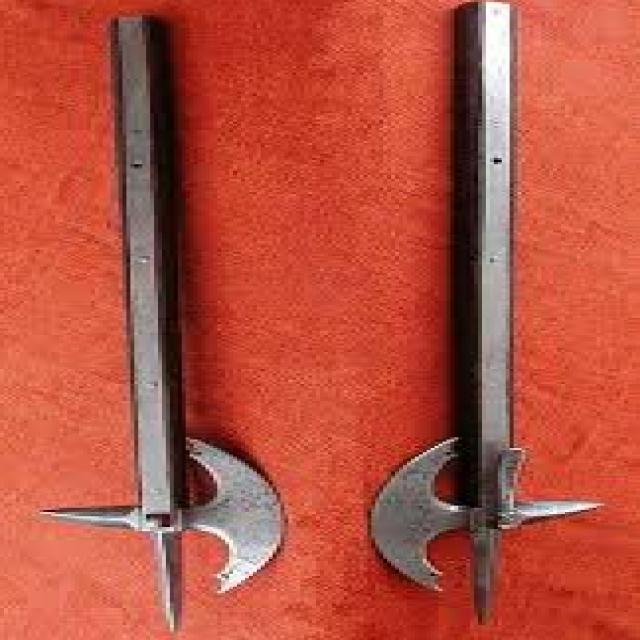Gun: (288, 0, 640, 640), (0, 18, 300, 636)
